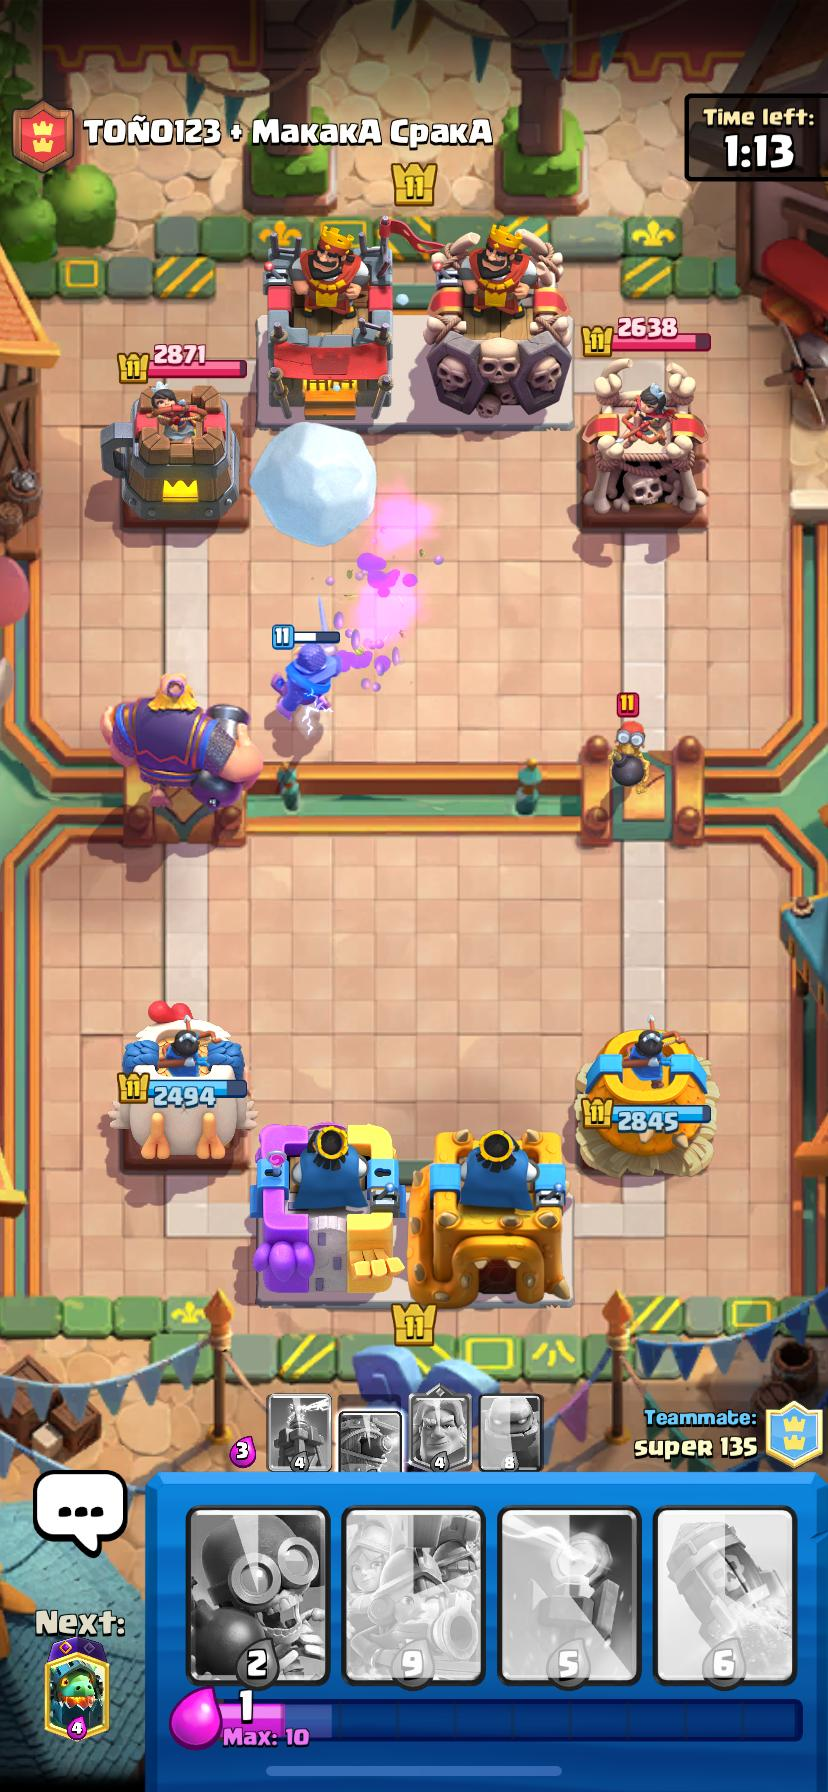EBomber: (613, 721, 648, 789)
EKingTower: (424, 226, 571, 425), (263, 219, 391, 425)
ESnowBall: (250, 421, 375, 545)
EnemyPrincessTower: (580, 363, 706, 521), (102, 389, 239, 525)
OEVRoyalG: (102, 675, 262, 814)
OKnight: (272, 633, 353, 719)
OwnKingTower: (408, 1129, 571, 1306), (250, 1123, 403, 1304)
OwnPrincessTower: (109, 1001, 255, 1162), (576, 1018, 717, 1175)
